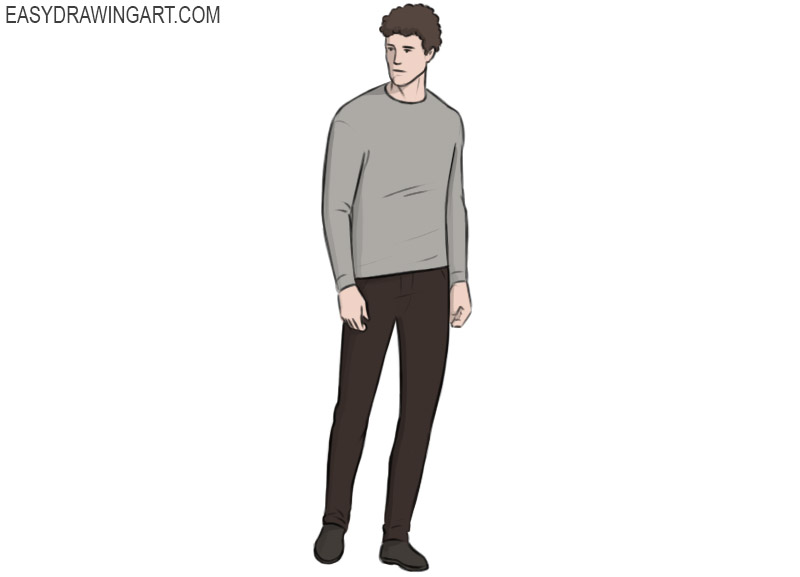person: (305, 4, 475, 577)
